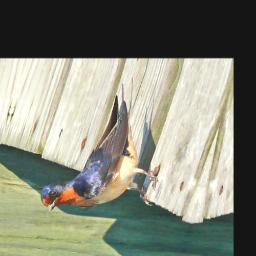Swallow: (36, 92, 183, 222)
